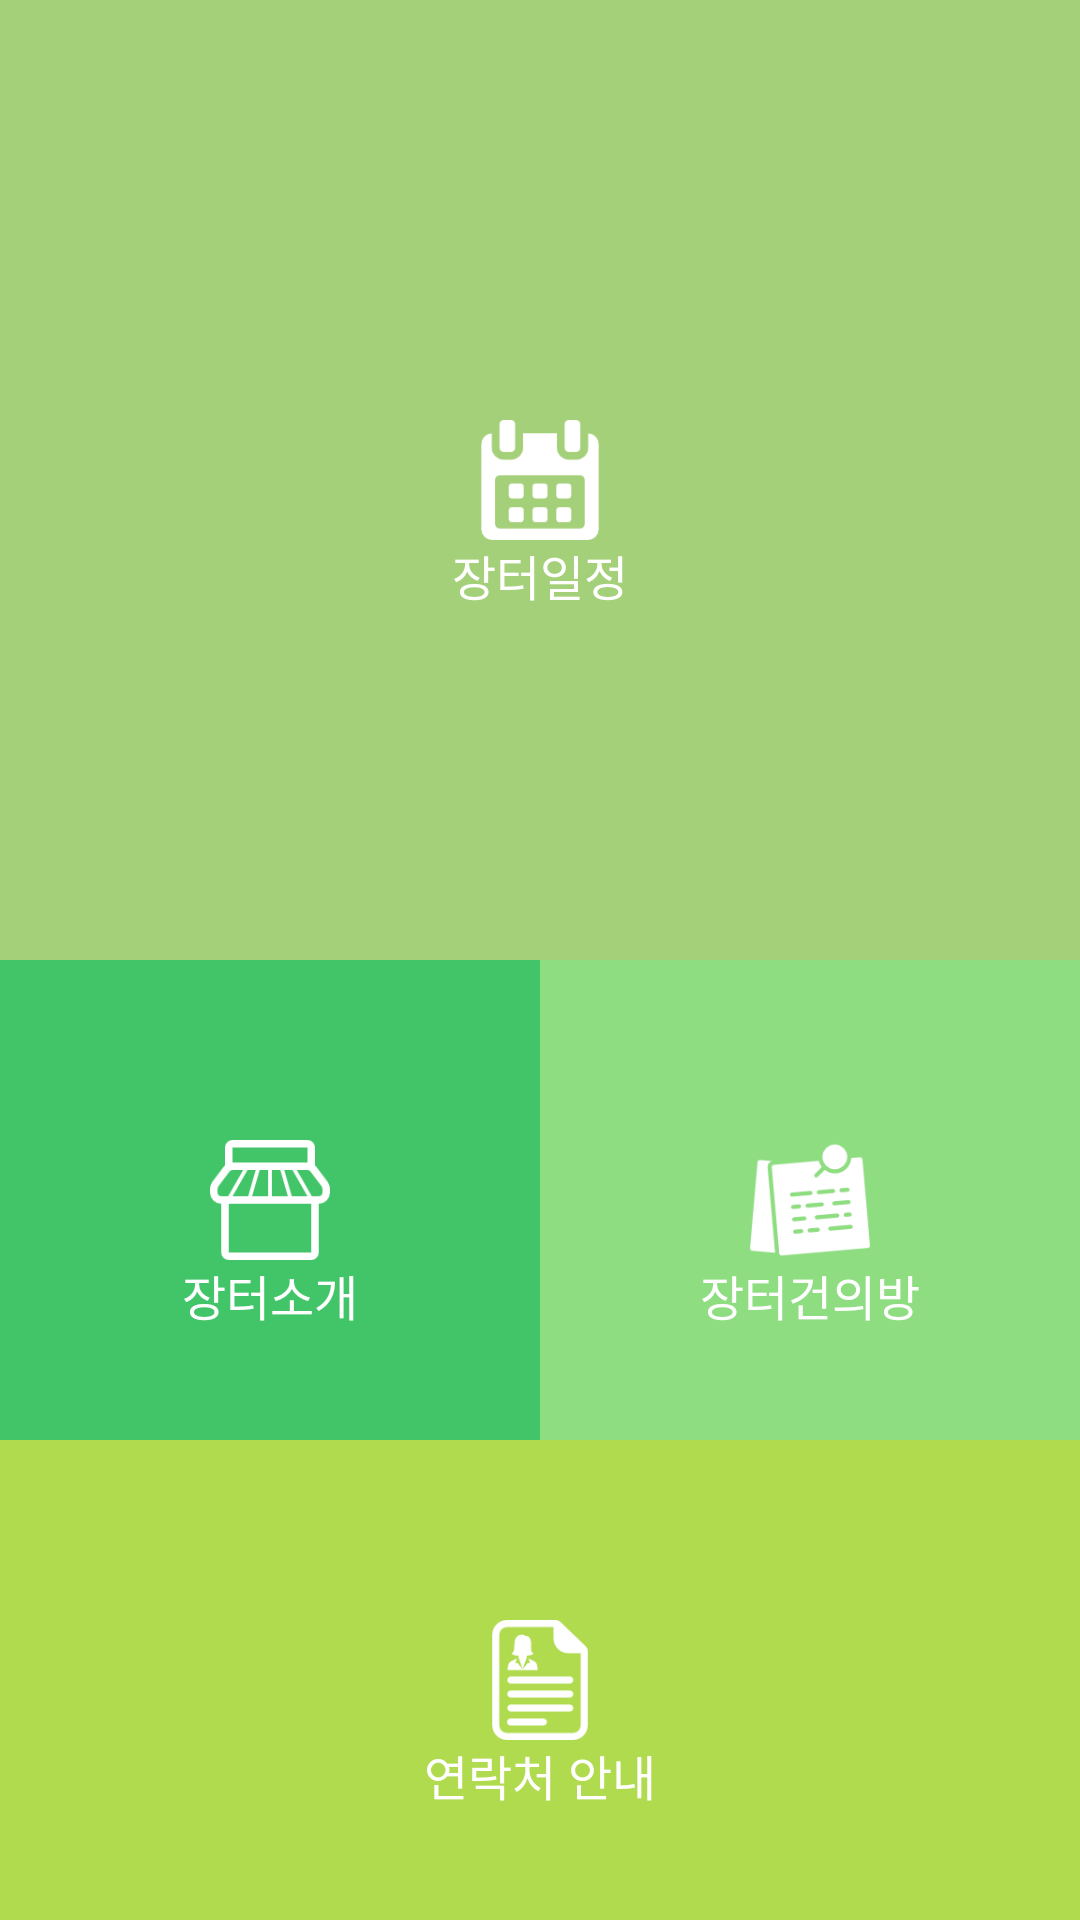

Point at icon controls on the screen. Image size 1080px x 1920px, points as (x=x, y=y).
calendar: (x=540, y=480)
file: (x=540, y=1680)
notes: (x=810, y=1200)
